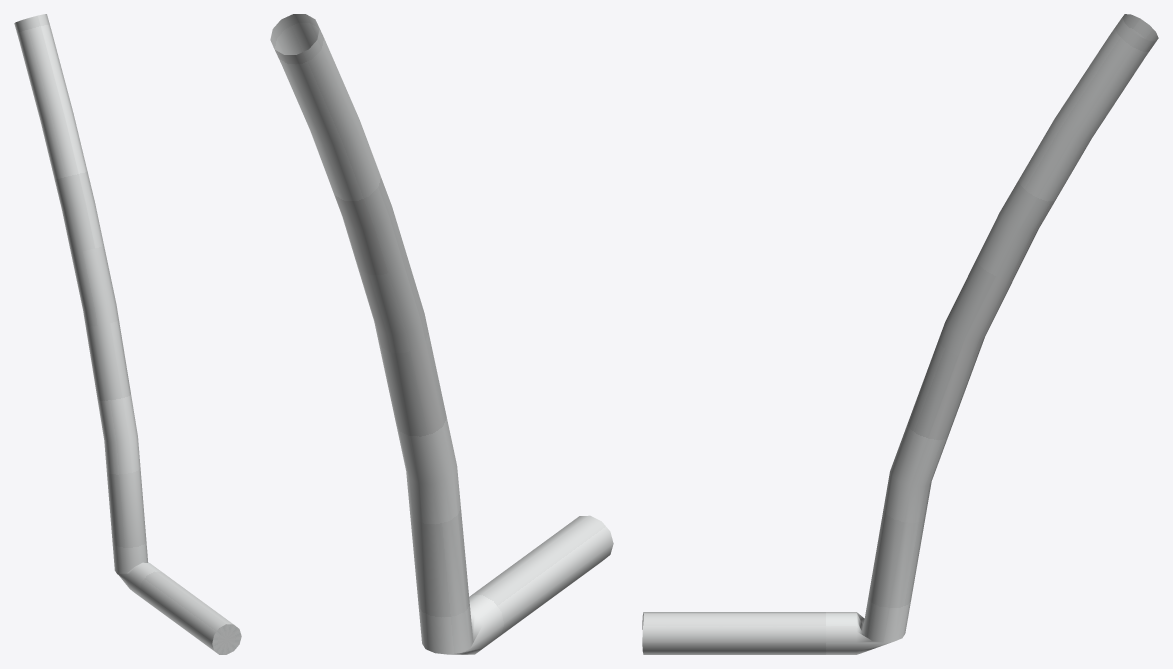
The model's file is luminairearm_laupsweep10ft_c1_pedestal.obj.
3 views of the same model, side by side, from view 1: azimuth 30°, elevation 25°; view 2: azimuth 150°, elevation 25°; view 3: azimuth 270°, elevation 25° (orthographic). The views are drawn at different scales.
Visible parts, largest first — view 1: luminairearm_laupsweep10ft_c1_pedestal; view 2: luminairearm_laupsweep10ft_c1_pedestal; view 3: luminairearm_laupsweep10ft_c1_pedestal.
Boxes of the visible parts, x1=… form: luminairearm_laupsweep10ft_c1_pedestal: x1=14, y1=14, x2=241, y2=654; luminairearm_laupsweep10ft_c1_pedestal: x1=270, y1=14, x2=613, y2=654; luminairearm_laupsweep10ft_c1_pedestal: x1=642, y1=14, x2=1158, y2=654.
Size of the model in its own units: 0.0562 by 0.9142 by 0.6728.
